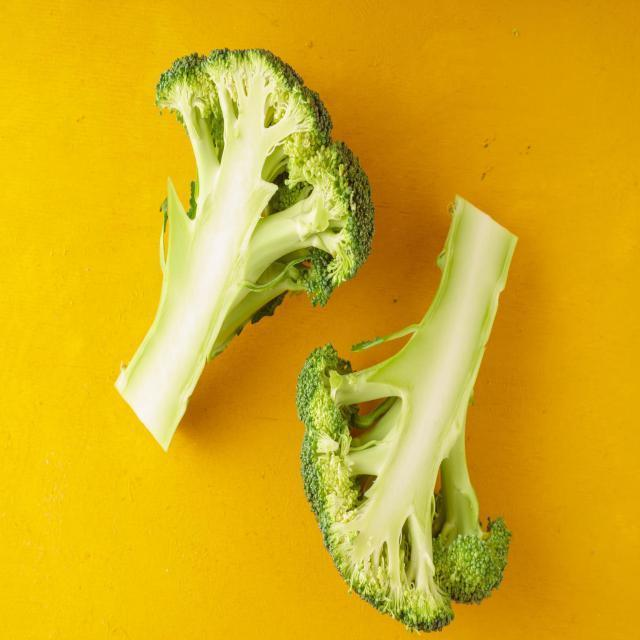broccoli: (110, 43, 377, 460), (291, 183, 519, 639)
